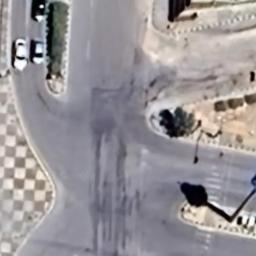sedan: (10, 35, 31, 72), (28, 38, 50, 66)
